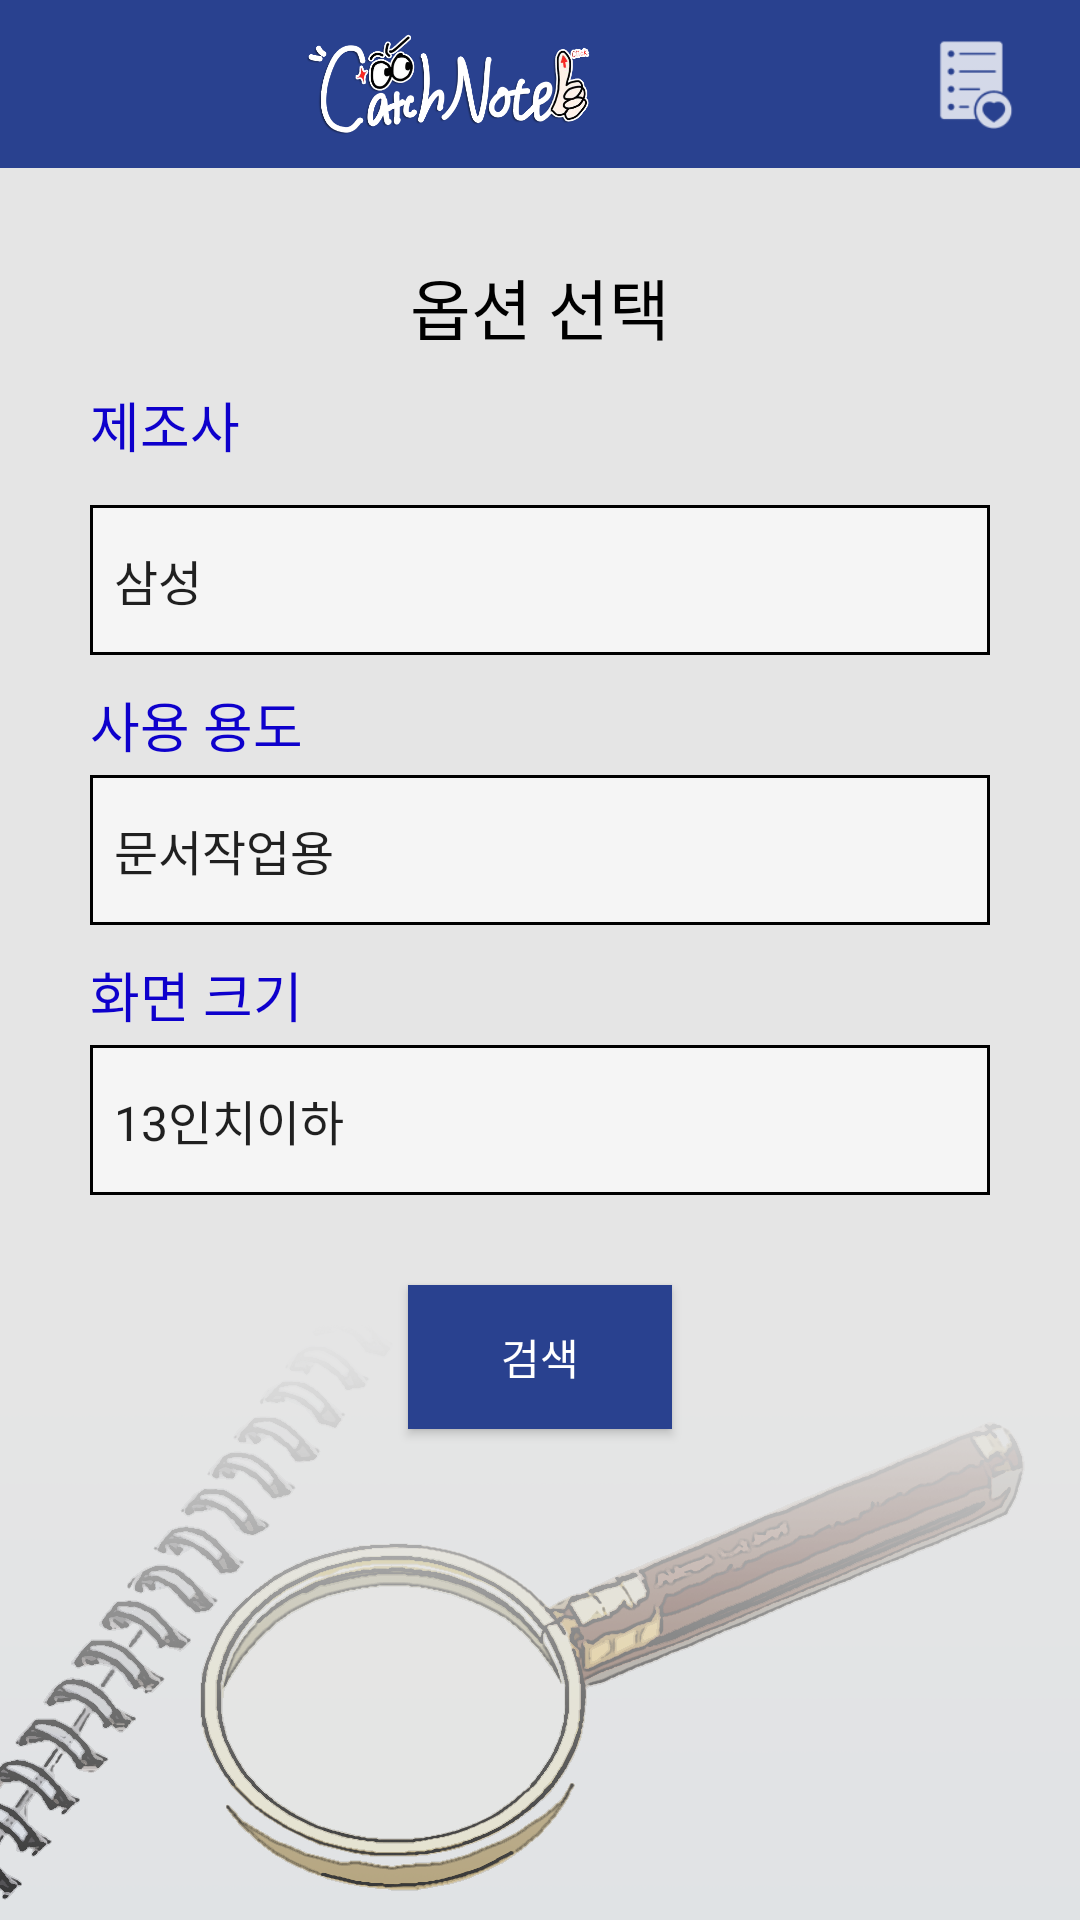

Point at icon controls on the screen. Image size 1080 x 1920, points as [x,y].
wishlist: [976,85]
